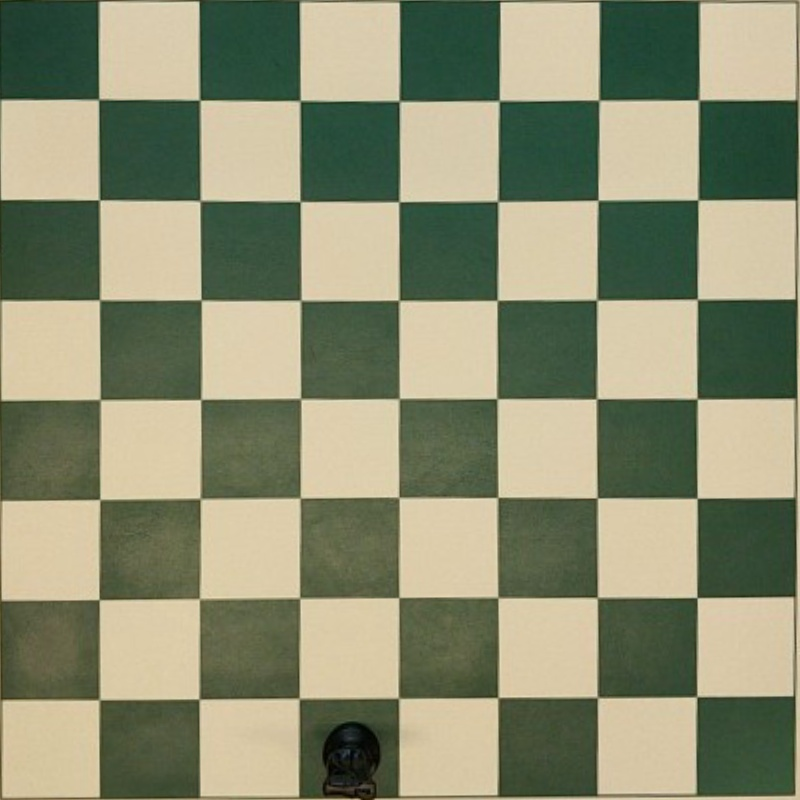black-knight: (322, 720, 382, 792)
